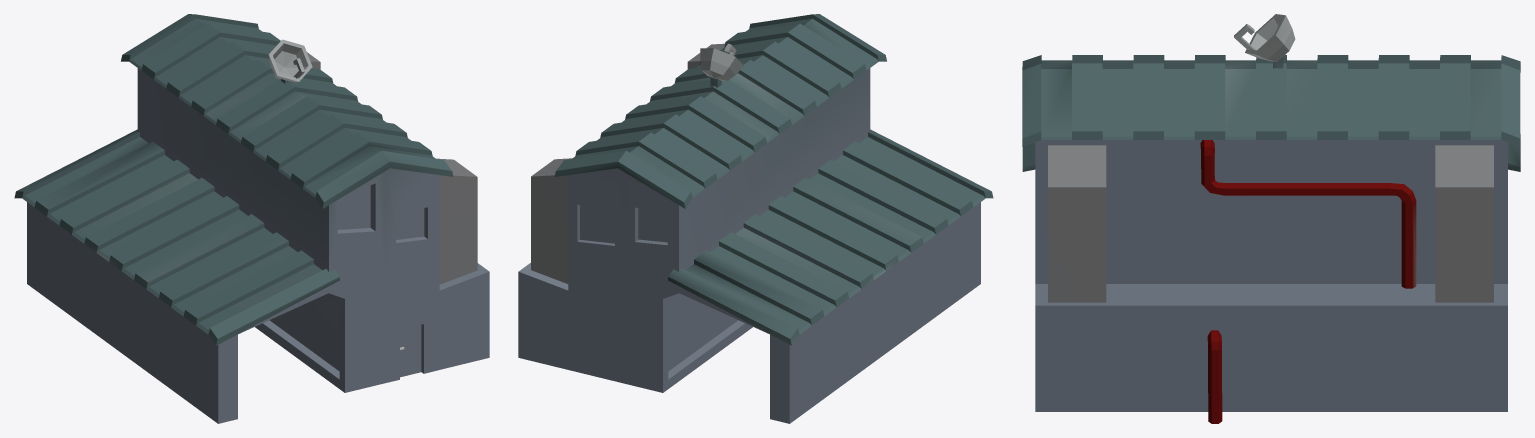
File: Edificacao.fbx
The picture shows the model from 3 angles, left to right: view 1: azimuth 30°, elevation 25°; view 2: azimuth 150°, elevation 25°; view 3: azimuth 270°, elevation 25°; orthographic projection. The views are drawn at different scales.
Visible parts, largest first — view 1: LOD0; view 2: LOD0; view 3: LOD0.
Part boxes in pixels (x1,y1,x2,y2): LOD0: (14, 14, 489, 423); LOD0: (518, 14, 993, 423); LOD0: (1022, 14, 1520, 423).
Size of what is drawn, in the model's own units: 1420 by 1274 by 1704.
